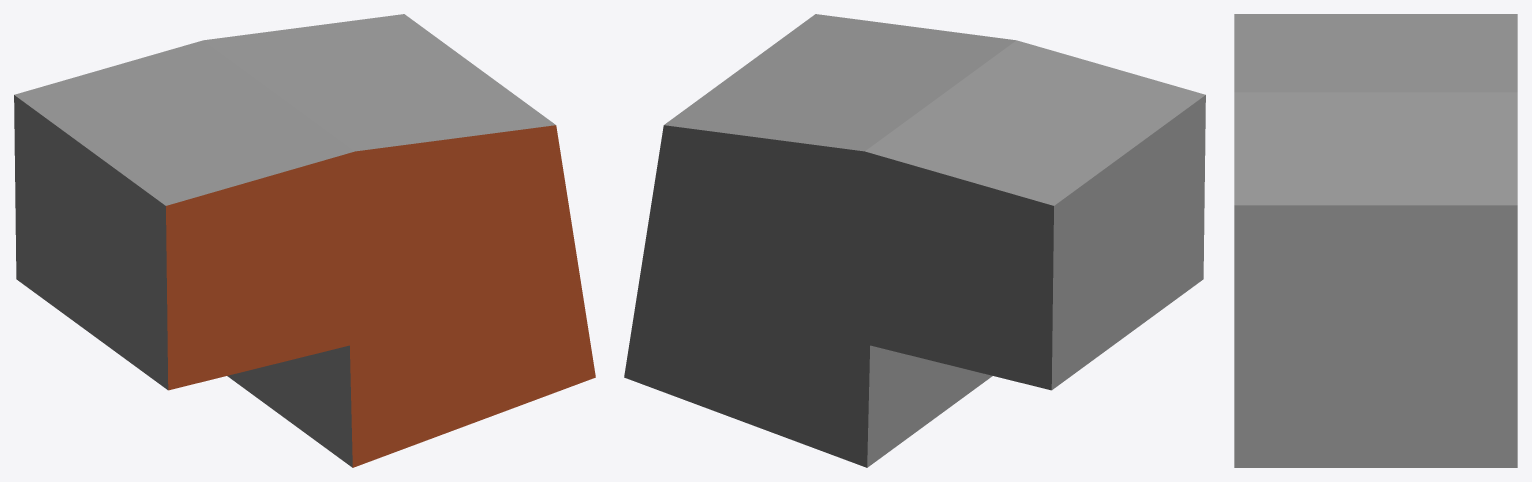
Rendered from construction_5383_assumed_A_Casa_h6m.obj.
3 renders of one model, left to right at view 1: azimuth 30°, elevation 25°; view 2: azimuth 150°, elevation 25°; view 3: azimuth 270°, elevation 25°, orthographic. The views are drawn at different scales.
Visible parts, largest first — view 1: construction_5383_assumed_A_Casa; view 2: construction_5383_assumed_A_Casa; view 3: construction_5383_assumed_A_Casa.
Part boxes in pixels (x1,y1,x2,y2): construction_5383_assumed_A_Casa: [14, 14, 595, 467]; construction_5383_assumed_A_Casa: [624, 14, 1205, 467]; construction_5383_assumed_A_Casa: [1234, 14, 1517, 467].
Size of the model in its own units: 9.81 by 6.89 by 6.
